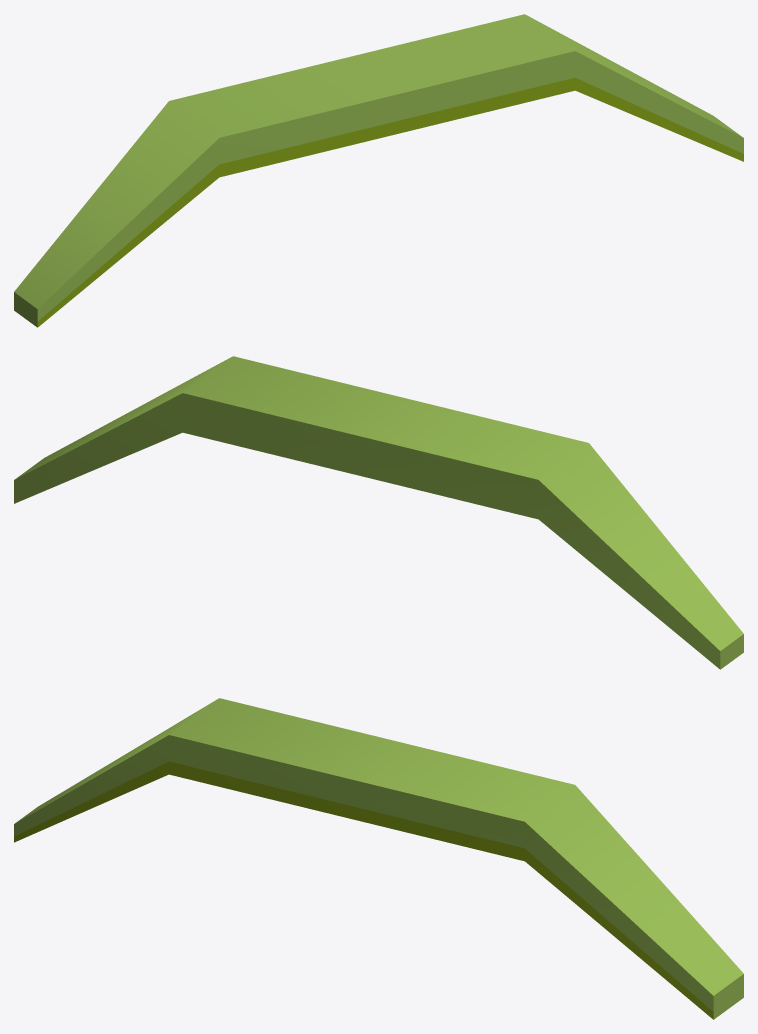
File: Wave.obj
The picture shows the model from 3 angles, top to bottom: view 1: azimuth 30°, elevation 25°; view 2: azimuth 150°, elevation 25°; view 3: azimuth 330°, elevation 25°; orthographic projection.
Visible parts, largest first — view 1: pCube20; view 2: pCube20; view 3: pCube20.
Boxes of the visible parts, box(x1,y1,x2,y2) form: pCube20: box(14, 14, 743, 327); pCube20: box(14, 356, 743, 669); pCube20: box(14, 698, 743, 1019).
Bounding box in the file's own units: 689 × 151 × 85.53.
